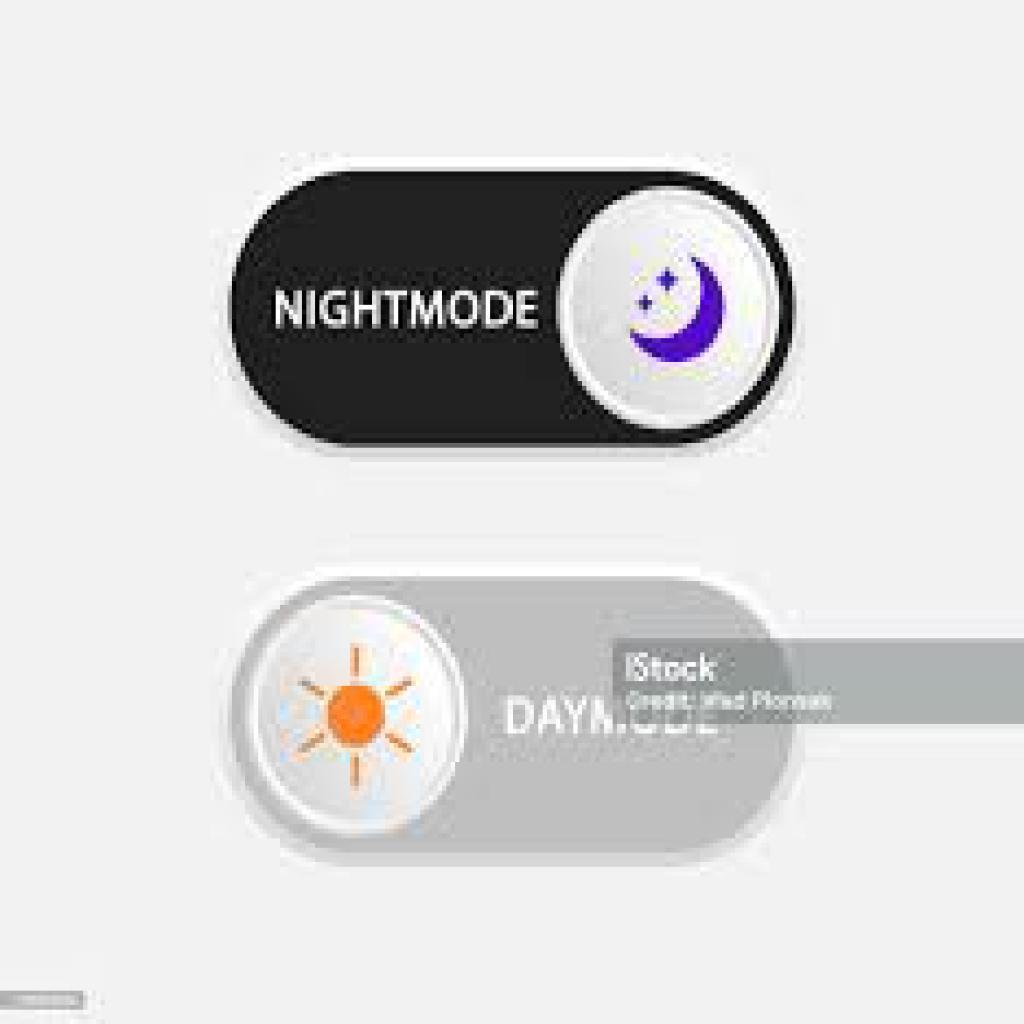switch: (218, 561, 805, 875), (230, 161, 807, 466)
